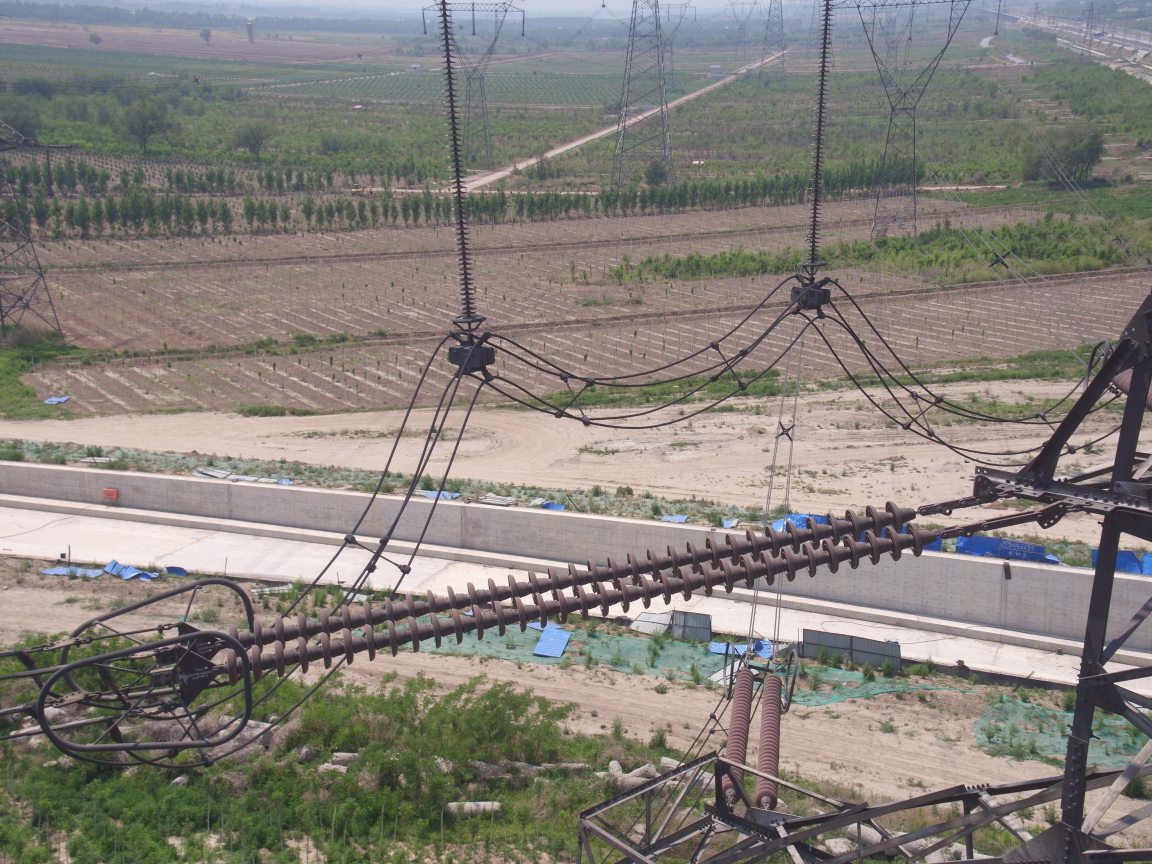insulator: (201, 495, 966, 689)
